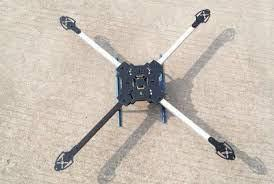drone: (57, 13, 238, 166)
